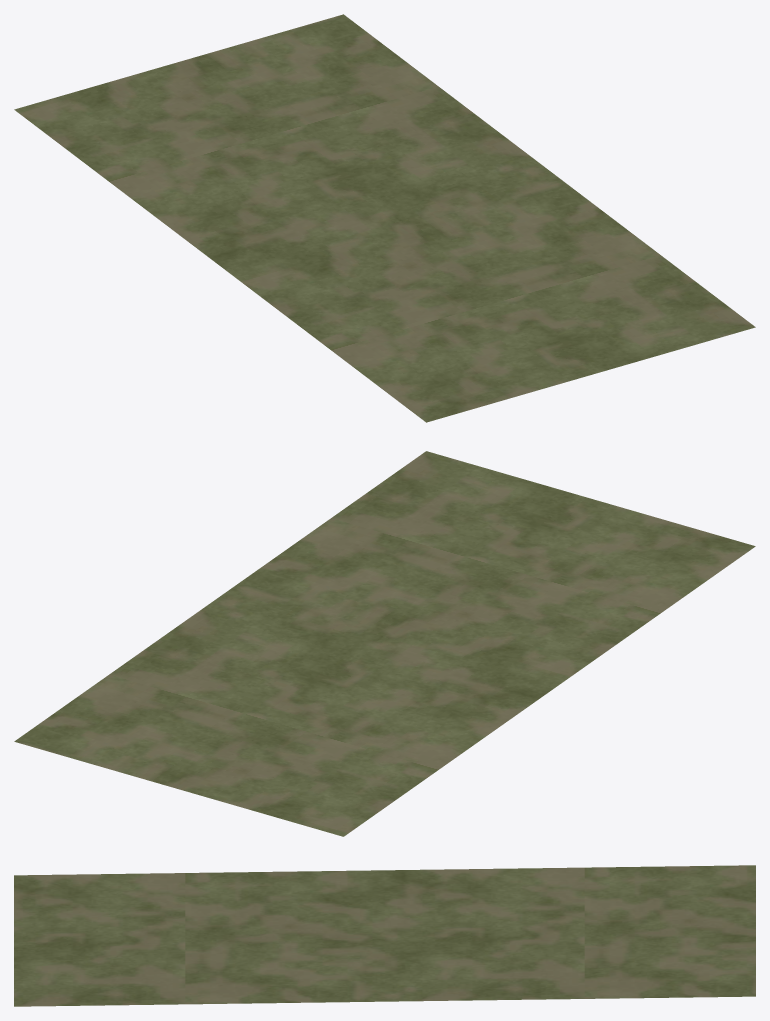
3 views of the same model, one above another, from view 1: azimuth 30°, elevation 25°; view 2: azimuth 150°, elevation 25°; view 3: azimuth 270°, elevation 25° (orthographic). The views are drawn at different scales.
Bounding box in the file's own units: 6 × 0.453 × 13.
Materials: 1 (1 with a texture image).
